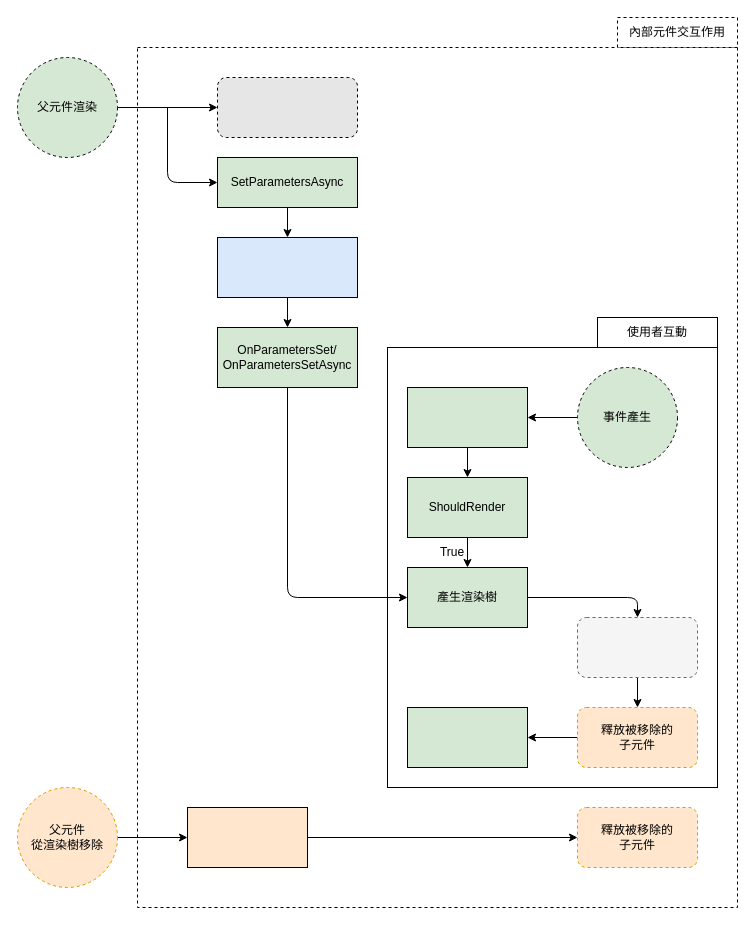
The diagram is 755 pixels wide and 925 high, and some of its shapes have lost their labels. The centre of each missing label's shape, as x and y in pixels:
"OnAfterRender/ OnAfterRenderAsync" belongs at (x=467, y=737).
"OnInitialized/ OnInitializedAsync" belongs at (x=287, y=267).
"StaseHasChanged" belongs at (x=467, y=417).
"執行 IDisposable.Dispose" belongs at (x=247, y=837).
"建立並附加在 子元件上" belongs at (x=637, y=647).
"建立實體 如果需要的話" belongs at (x=287, y=107).
